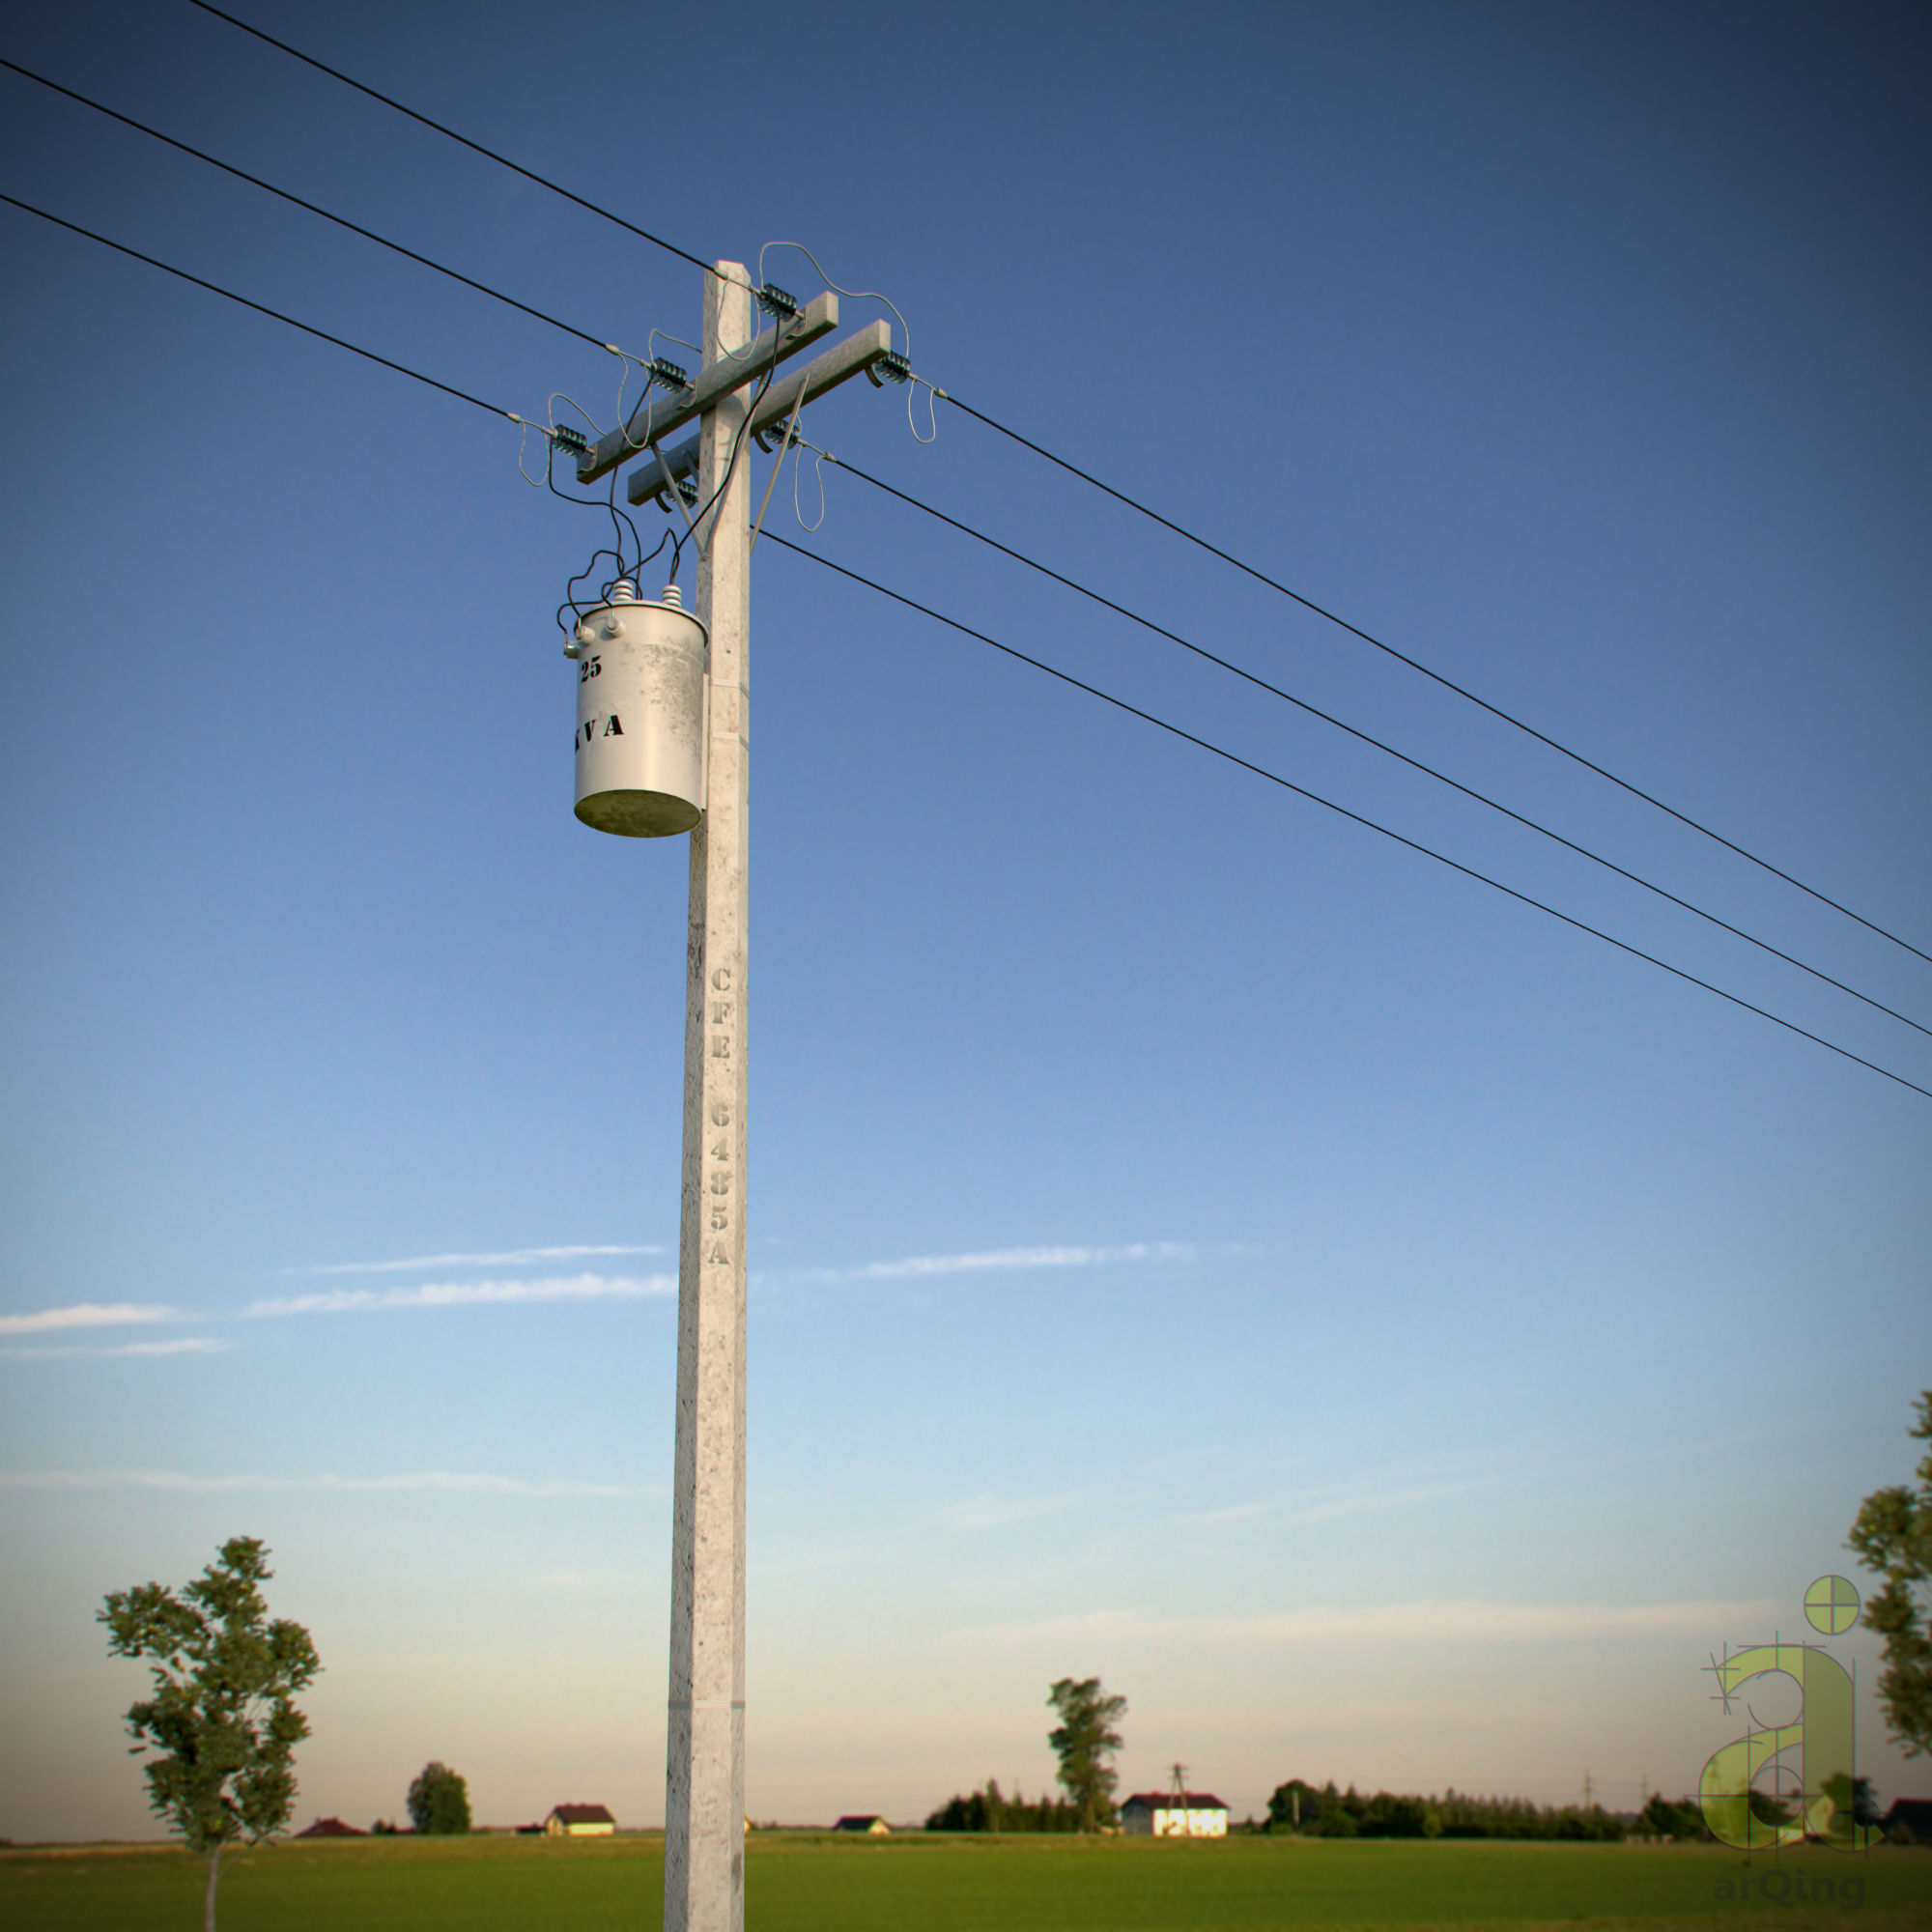utility_pole: (492, 223, 971, 870)
